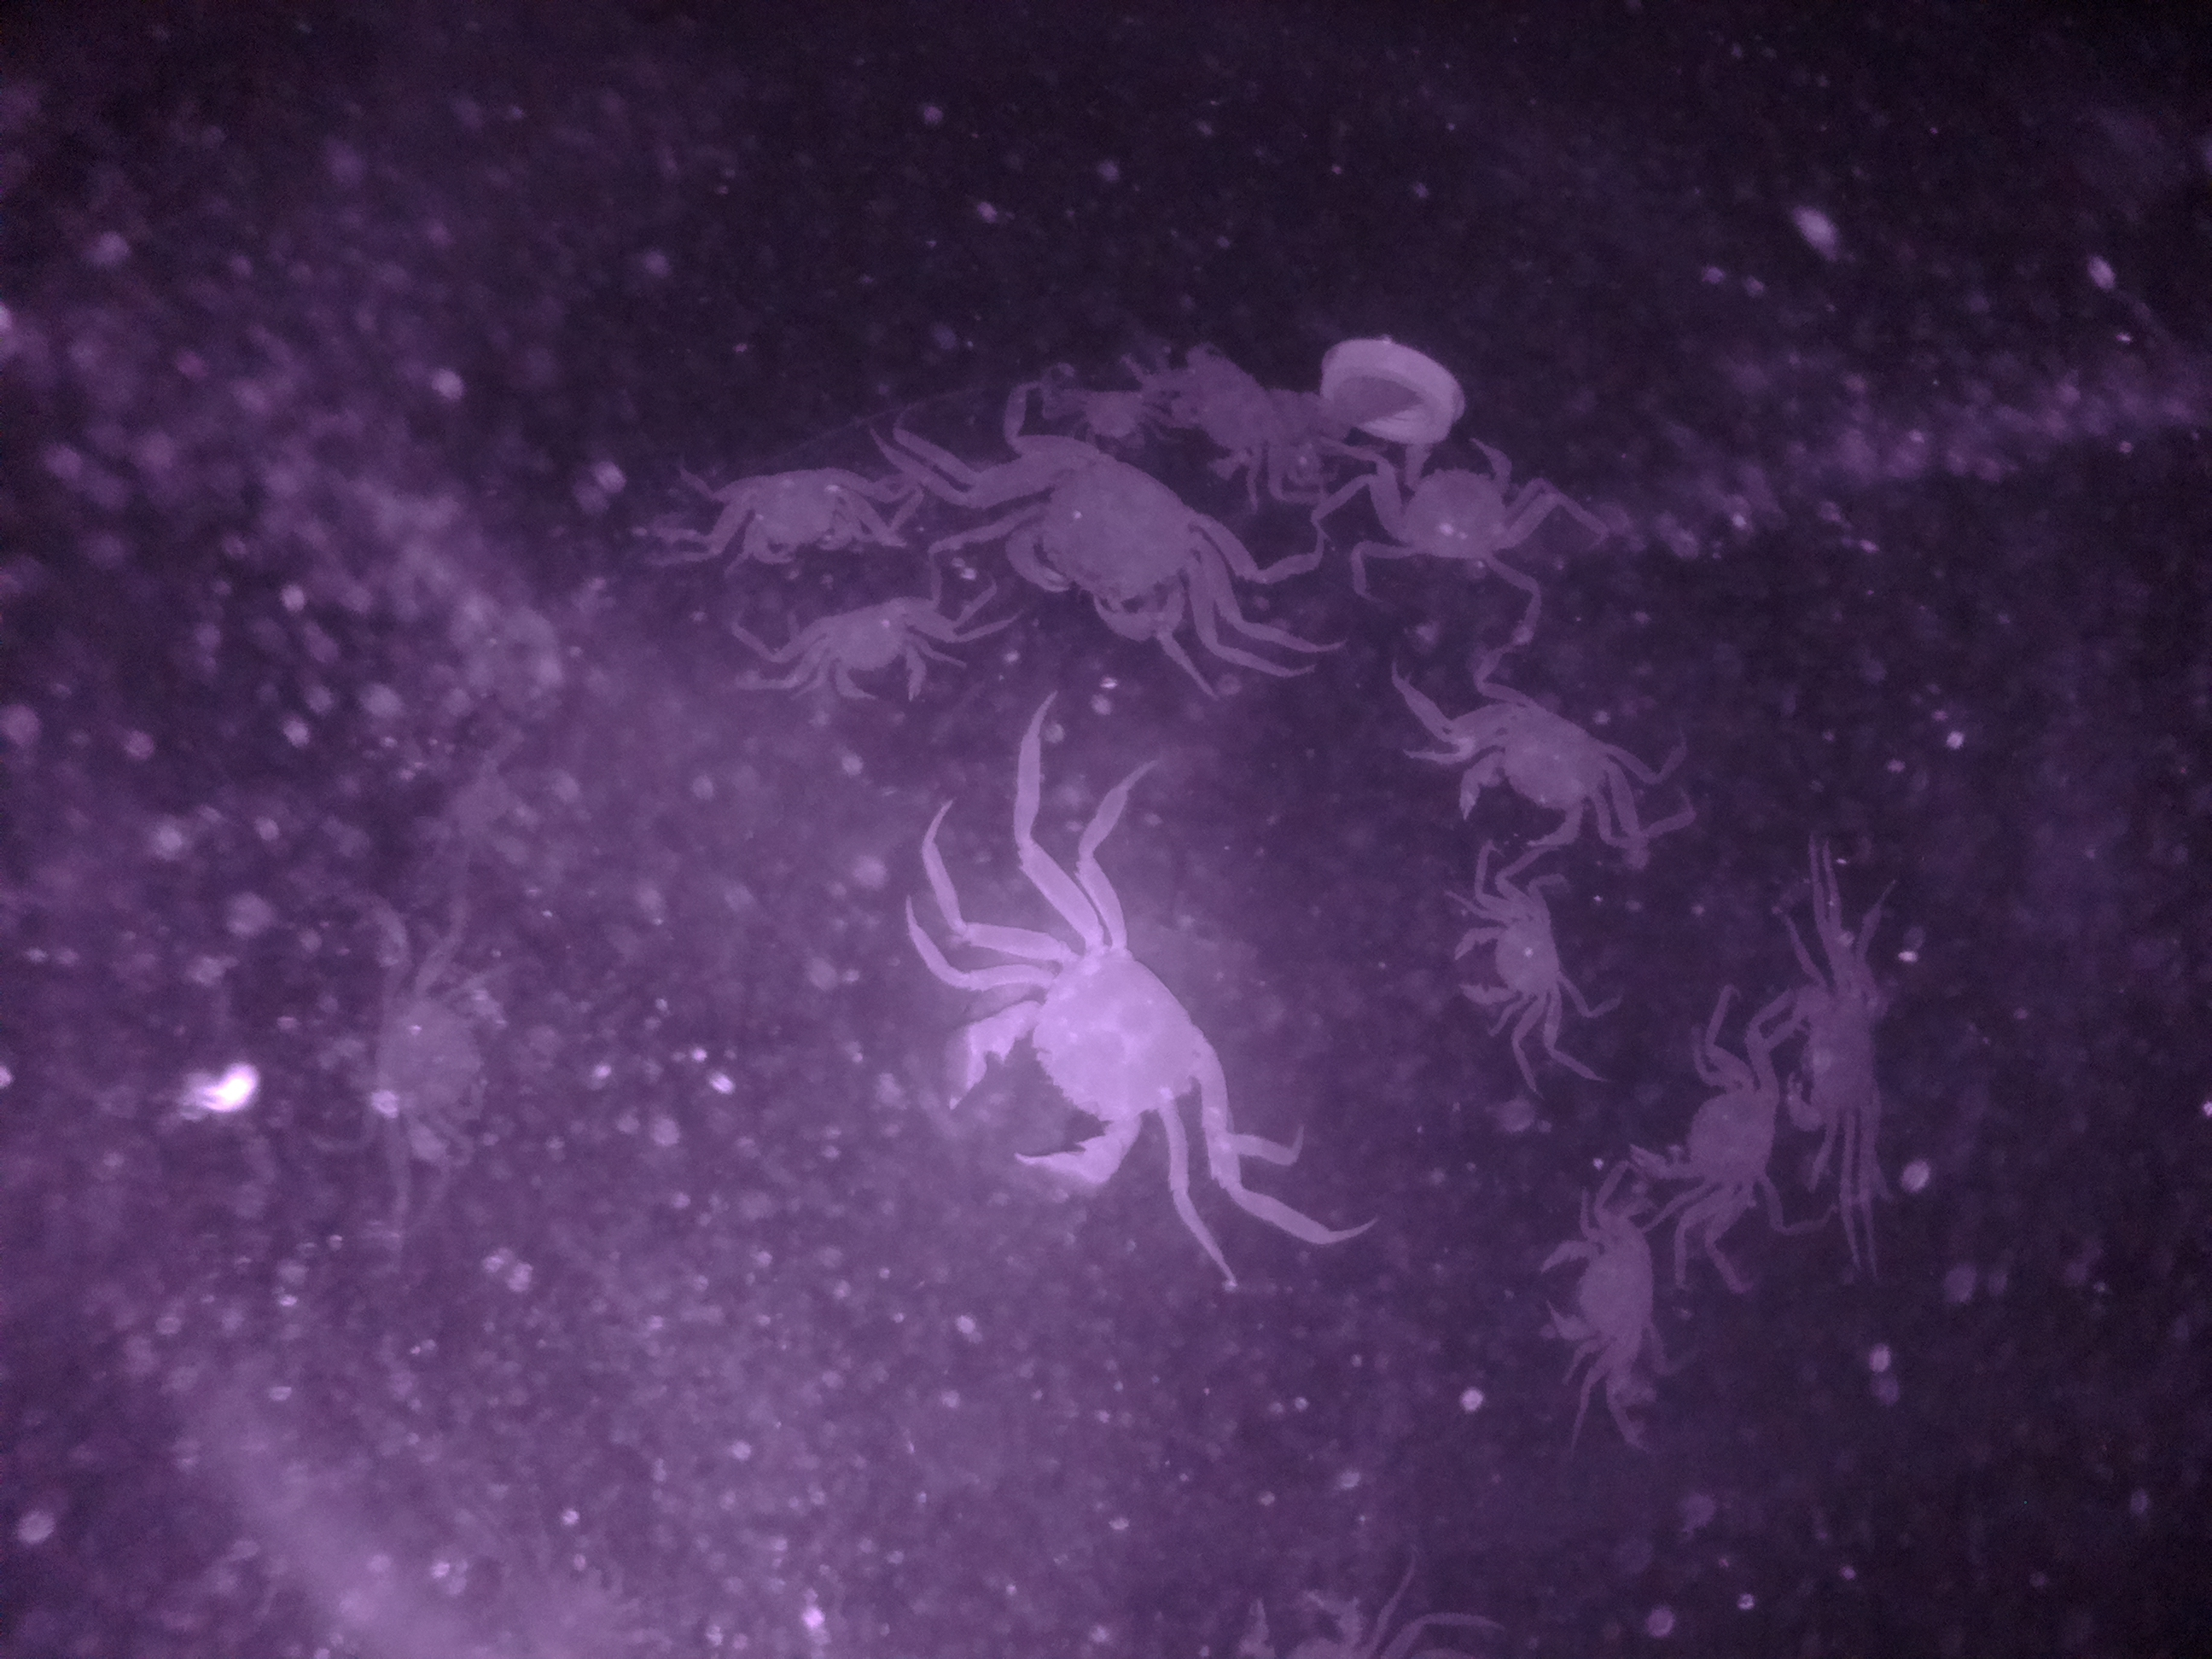Crab: (916, 920, 1238, 1208), (986, 430, 1223, 641), (1440, 683, 1629, 859), (1766, 953, 1907, 1134), (1369, 427, 1527, 575), (1534, 1199, 1665, 1368), (693, 455, 867, 575), (1446, 880, 1575, 1035), (792, 589, 946, 713)
